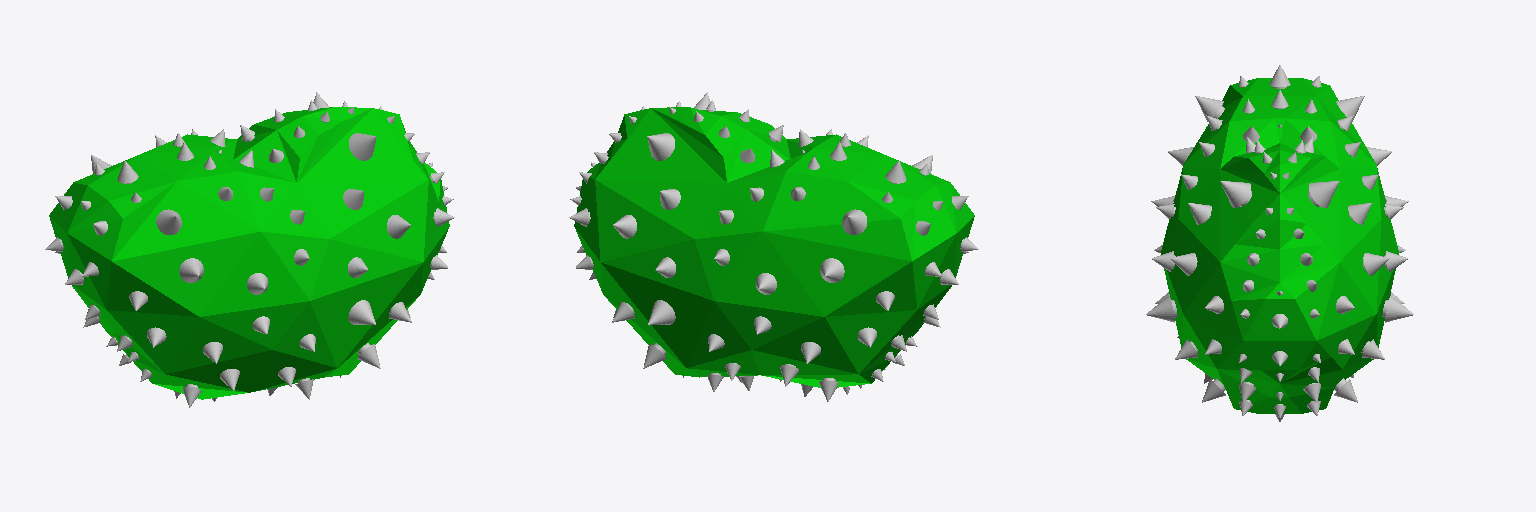
The model's file is irregularda.obj.
The picture shows the model from 3 angles: view 1: azimuth 30°, elevation 25°; view 2: azimuth 150°, elevation 25°; view 3: azimuth 270°, elevation 25°; orthographic projection.
Parts seen in each view (by area): view 1: Icosphere, Cylinder.034_Cylinder; view 2: Icosphere, Cylinder.022_Cylinder; view 3: Icosphere, Cylinder.022_Cylinder, Cylinder.034_Cylinder.
Boxes of the visible parts, x1,y1,x2,y2 form: Icosphere: [49, 107, 449, 399]; Cylinder.034_Cylinder: [349, 133, 376, 160]; Icosphere: [574, 107, 974, 387]; Cylinder.022_Cylinder: [647, 133, 674, 160]; Icosphere: [1161, 78, 1398, 413]; Cylinder.022_Cylinder: [1308, 181, 1339, 207]; Cylinder.034_Cylinder: [1220, 181, 1251, 207].
Bounding box in the file's own units: 8.08 × 5.42 × 4.91.